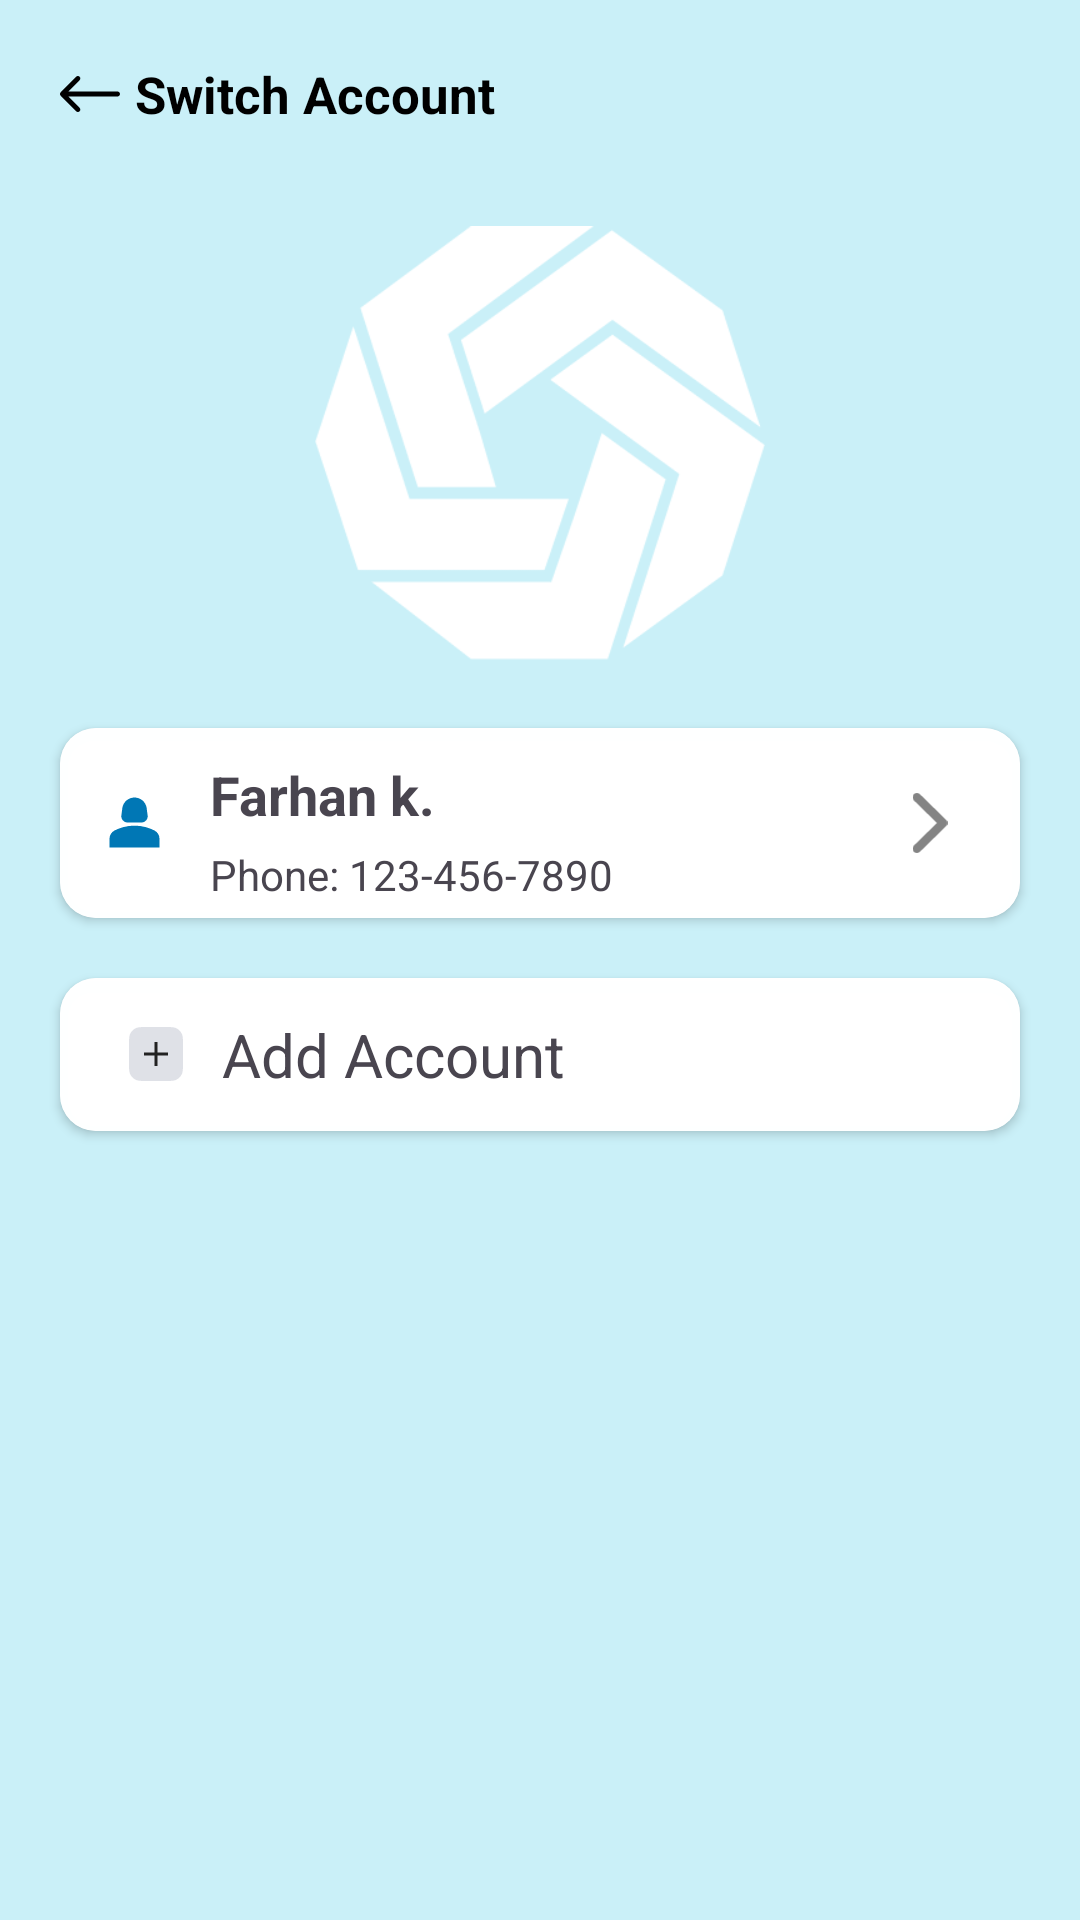

Screen size 1080*1920. Icon name, then its box in pixels as (left=x1, top=y1, right=x2, bottom=y2):
person: (left=109, top=797, right=160, bottom=848)
